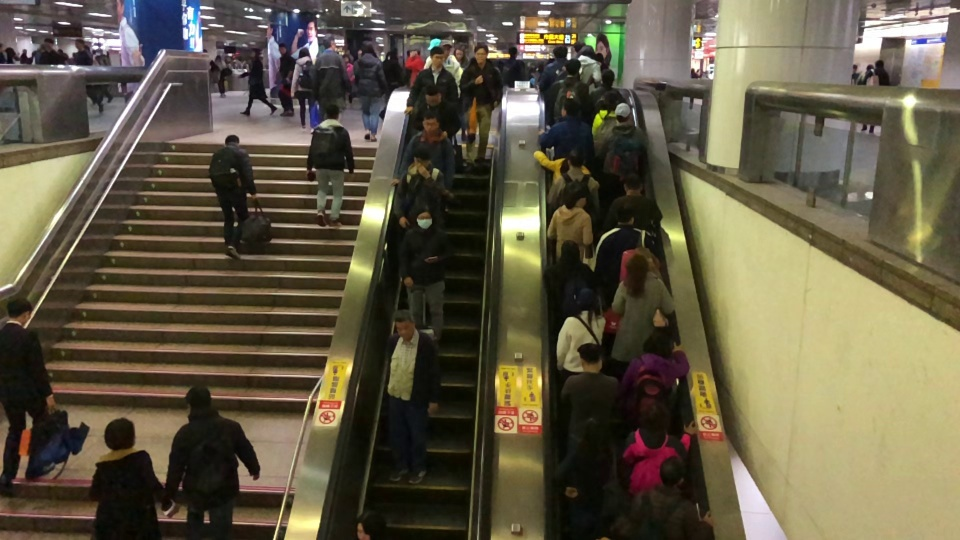person_head: (581, 415, 613, 450), (104, 417, 136, 451), (354, 510, 387, 540), (640, 402, 670, 432), (658, 455, 685, 487), (184, 384, 213, 412), (7, 297, 33, 325), (646, 329, 672, 357), (577, 343, 602, 372), (564, 180, 589, 208), (394, 310, 414, 339), (625, 253, 649, 277), (575, 287, 596, 310), (411, 145, 431, 169), (560, 239, 580, 263), (414, 205, 433, 230), (622, 172, 644, 193), (420, 112, 440, 133), (614, 102, 633, 124), (616, 203, 635, 224), (424, 85, 442, 106), (602, 89, 620, 110), (559, 97, 578, 116), (565, 148, 584, 167), (429, 46, 445, 68), (564, 58, 581, 75), (473, 44, 488, 63), (599, 68, 615, 85), (322, 33, 336, 52), (439, 39, 452, 58), (325, 103, 339, 120), (224, 133, 240, 147), (551, 45, 567, 59), (579, 45, 594, 59), (360, 39, 374, 53), (453, 45, 465, 60), (507, 47, 520, 58), (43, 37, 54, 49), (298, 47, 309, 58), (74, 38, 85, 49), (249, 47, 259, 58), (875, 58, 884, 69), (278, 42, 286, 54), (213, 53, 222, 61)
person_vbox: (164, 384, 261, 540), (0, 296, 56, 485), (86, 416, 167, 540), (386, 310, 442, 485), (551, 415, 627, 540), (395, 205, 453, 348), (609, 253, 676, 373), (618, 402, 699, 499), (612, 455, 701, 540), (556, 343, 621, 458), (593, 204, 664, 307), (207, 133, 258, 261), (305, 103, 355, 228), (621, 329, 691, 418), (458, 44, 504, 172), (390, 144, 453, 234), (544, 240, 596, 349), (594, 102, 649, 203), (392, 112, 456, 193), (557, 287, 606, 387), (545, 148, 601, 224), (308, 33, 353, 124), (537, 97, 593, 170), (402, 45, 459, 116), (546, 180, 594, 263), (602, 172, 663, 235), (352, 39, 389, 140), (544, 58, 589, 126), (408, 85, 463, 139), (237, 47, 277, 116), (590, 90, 626, 162), (71, 37, 104, 113), (858, 59, 891, 133), (422, 38, 463, 96), (589, 69, 632, 124), (531, 148, 591, 185), (289, 47, 314, 129), (536, 45, 580, 91), (277, 42, 295, 118), (573, 45, 602, 85), (497, 46, 523, 89), (39, 37, 66, 65), (213, 54, 227, 98), (452, 45, 469, 70)
